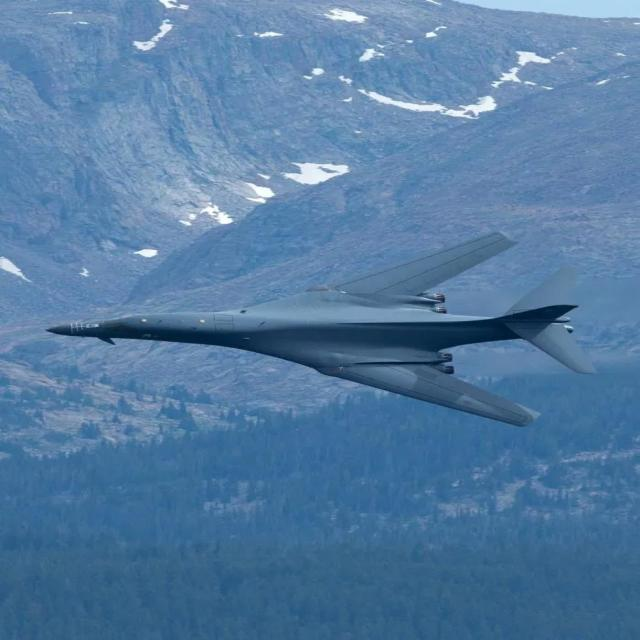B1: (18, 230, 640, 450)
